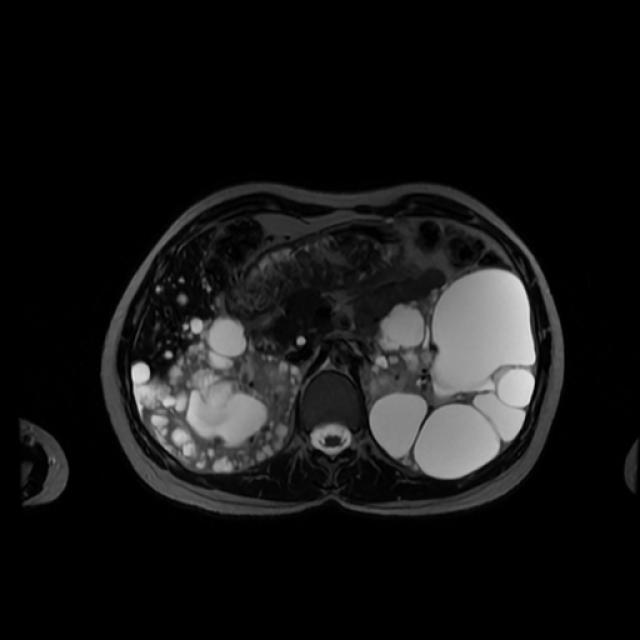sag: (145, 317, 302, 475)
sol: (367, 268, 537, 478)
